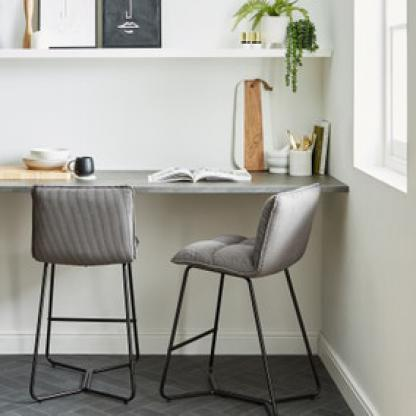chair: (159, 177, 340, 416), (24, 177, 141, 416)
table: (2, 162, 354, 216)
